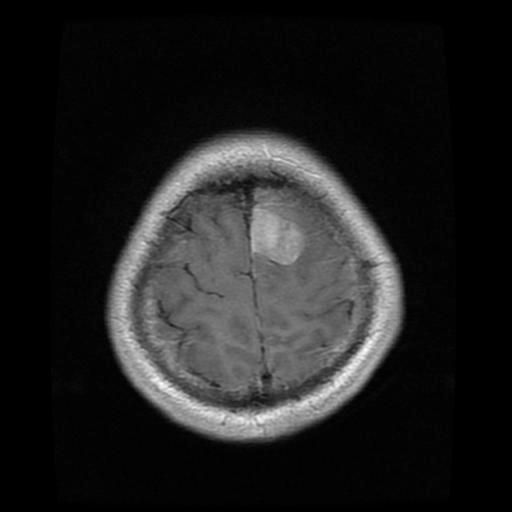Tumour-Meningioma: (213, 195, 323, 282)
